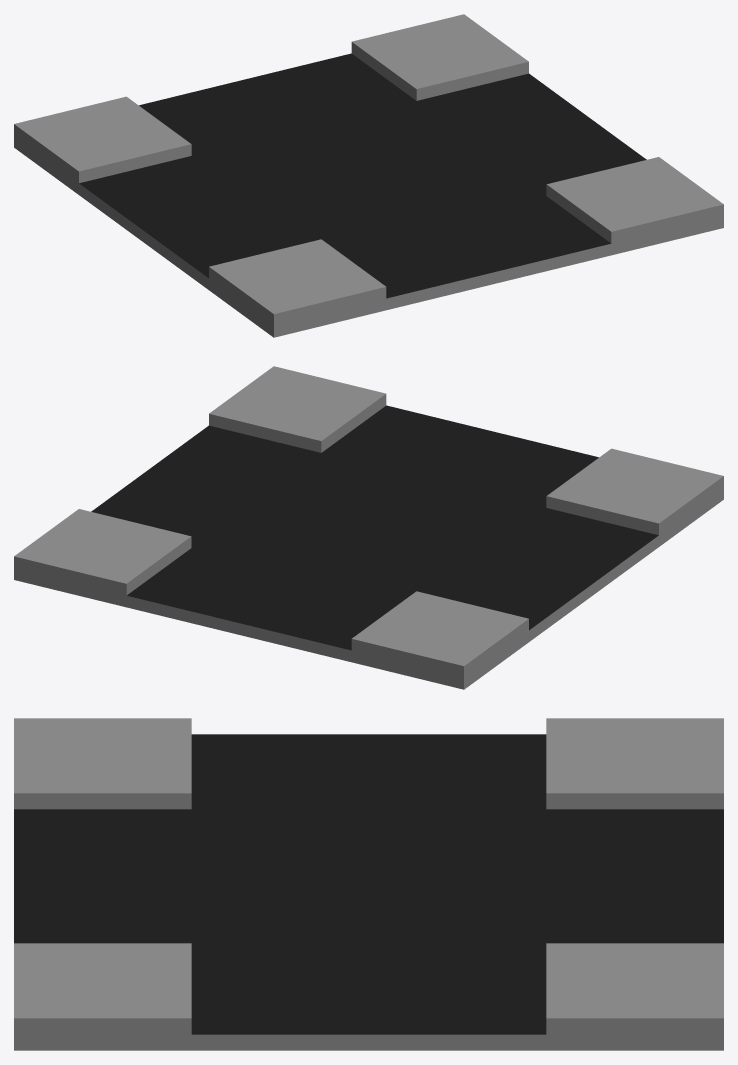
Rendered from Road02.fbx.
The picture shows the model from 3 angles, top to bottom: view 1: azimuth 30°, elevation 25°; view 2: azimuth 150°, elevation 25°; view 3: azimuth 270°, elevation 25°; orthographic projection. The views are drawn at different scales.
Visible parts, largest first — view 1: Road02; view 2: Road02; view 3: Road02.
Part boxes in pixels (left/top/right/bottom): Road02: left=14, top=14, right=723, bottom=337; Road02: left=14, top=366, right=723, bottom=689; Road02: left=14, top=718, right=723, bottom=1050.
Bounding box in the file's own units: 400 × 20 × 400.
